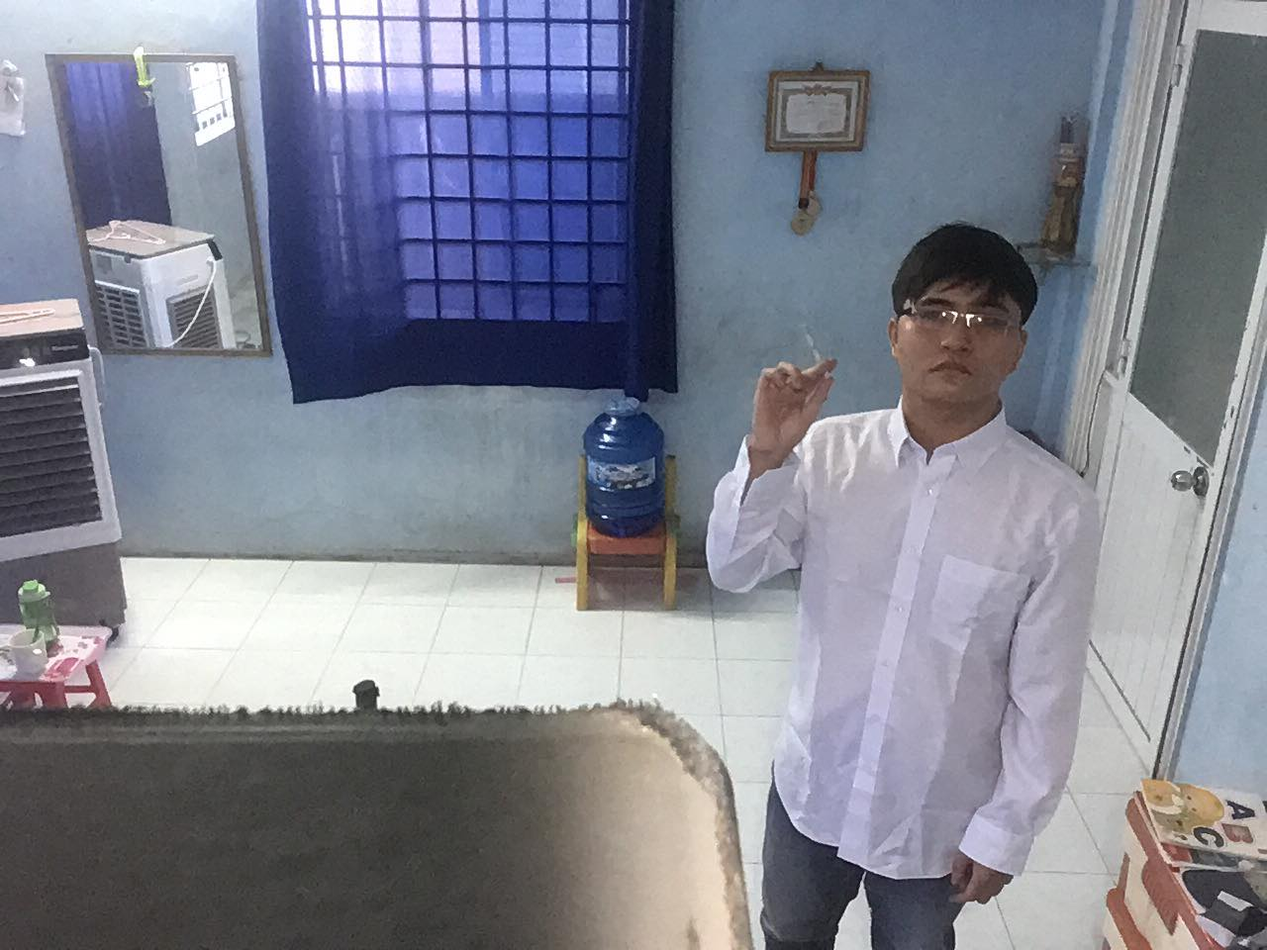cigarette: (803, 319, 839, 392)
person: (694, 205, 1100, 950)
